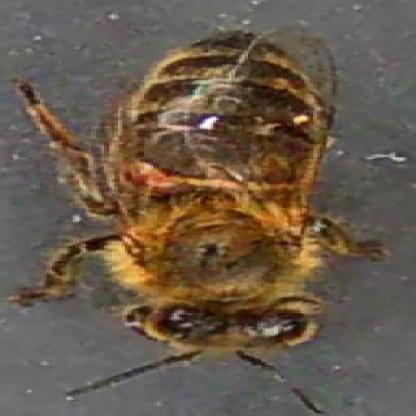bee: (118, 38, 324, 346)
vaoora: (132, 163, 182, 189)
